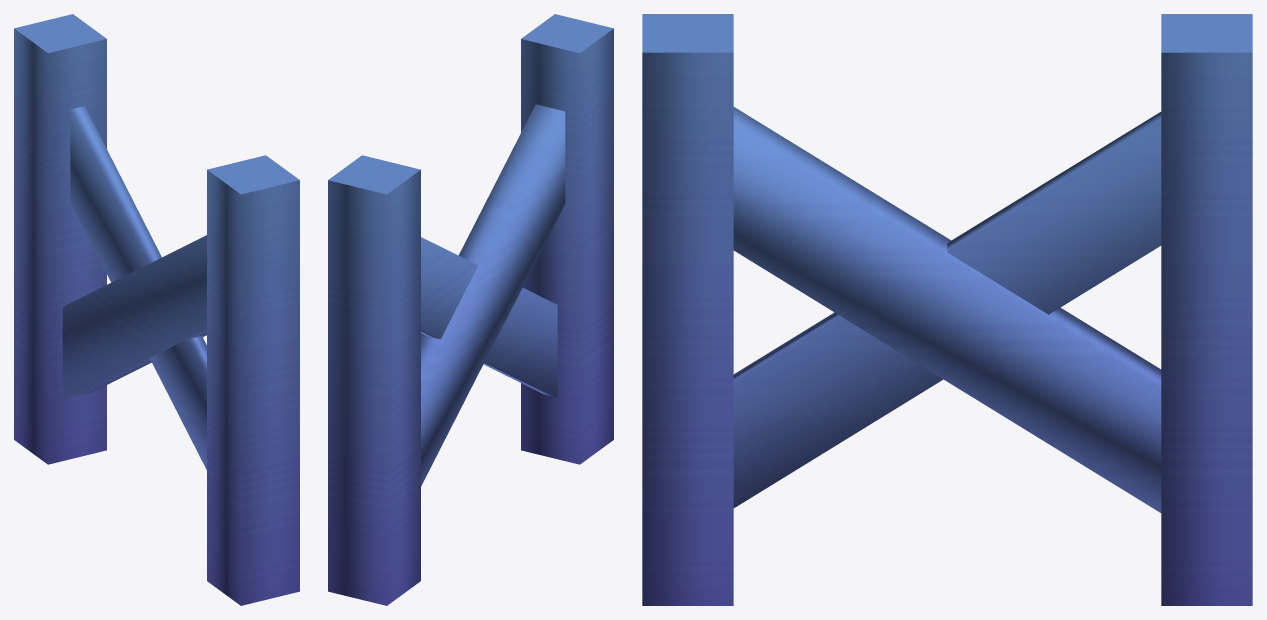
Rendered from support_diagonal_1.glb.
3 renders of one model, left to right at view 1: azimuth 30°, elevation 25°; view 2: azimuth 150°, elevation 25°; view 3: azimuth 270°, elevation 25°, orthographic. The views are drawn at different scales.
Visible parts, largest first — view 1: supports-diagonal; view 2: supports-diagonal; view 3: supports-diagonal.
Part boxes in pixels (x1,y1,x2,y2): supports-diagonal: (14,14,299,605); supports-diagonal: (328,14,613,605); supports-diagonal: (642,14,1252,605).
Bounding box in the file's own units: 0.15 × 1 × 1.
Materials: 1 (1 with a texture image).
